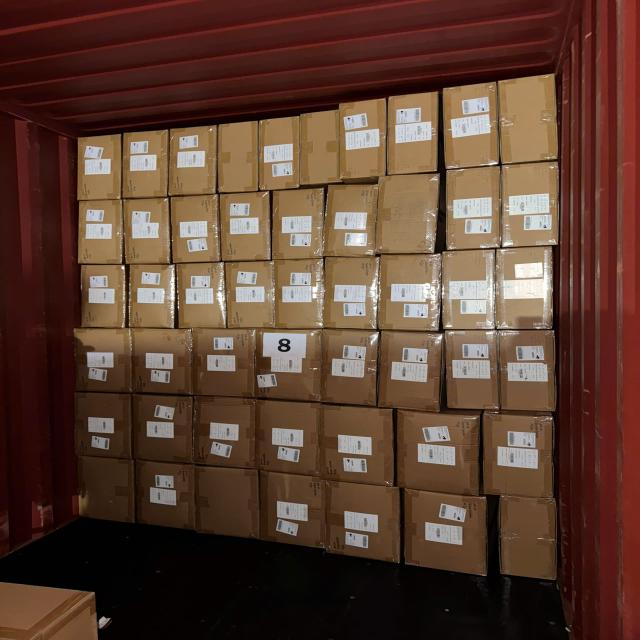Carton: (402, 491, 488, 580), (397, 410, 481, 496), (326, 481, 402, 565), (484, 412, 558, 498), (319, 407, 396, 488), (261, 471, 328, 551), (376, 331, 441, 412), (497, 494, 557, 580), (256, 398, 322, 476), (380, 252, 444, 332), (499, 74, 557, 162), (375, 175, 438, 256), (498, 248, 558, 332), (256, 328, 324, 402), (503, 162, 562, 247), (498, 327, 556, 411), (195, 468, 259, 544), (448, 166, 504, 250), (193, 394, 256, 468), (446, 83, 500, 166), (445, 247, 499, 330), (443, 330, 497, 412), (194, 330, 257, 400), (136, 461, 196, 534), (325, 330, 380, 408), (131, 327, 194, 395), (135, 395, 196, 465), (388, 93, 440, 175), (79, 457, 138, 528), (76, 392, 134, 461), (272, 186, 326, 259), (328, 255, 380, 330), (339, 101, 386, 183), (326, 184, 378, 258), (73, 327, 132, 392), (218, 190, 270, 260), (274, 260, 323, 331), (172, 128, 220, 200), (178, 264, 228, 331), (174, 194, 223, 262), (226, 261, 274, 329), (122, 133, 168, 202), (128, 265, 176, 330), (125, 198, 173, 262), (77, 198, 124, 263), (78, 265, 125, 330), (261, 118, 300, 194), (217, 119, 257, 193), (299, 111, 337, 188), (77, 138, 121, 203)
